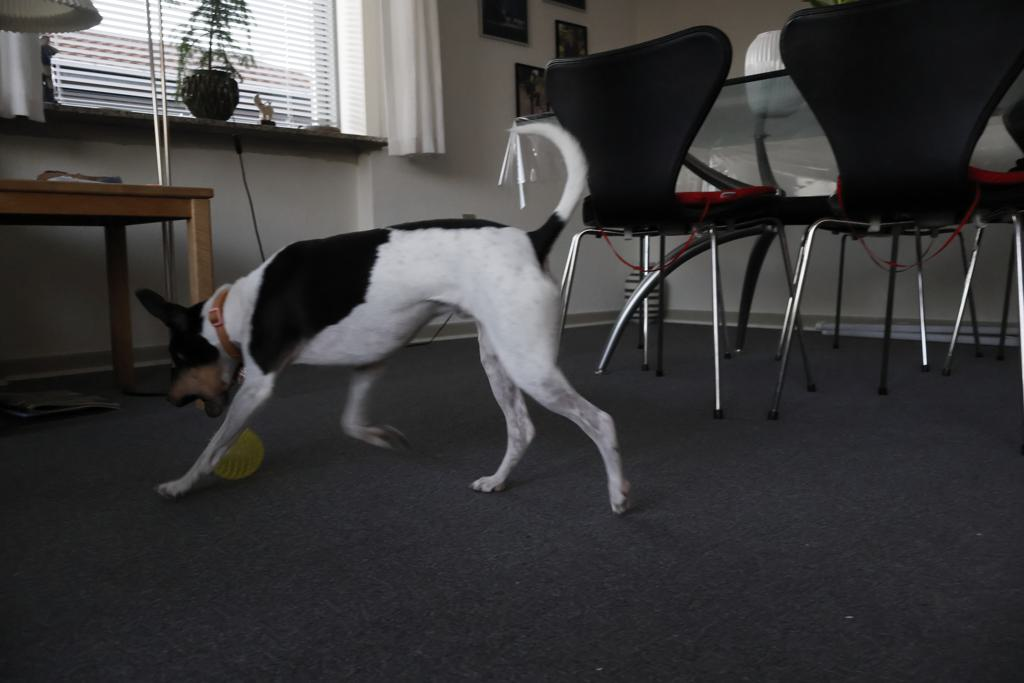Dog: (126, 113, 639, 527)
